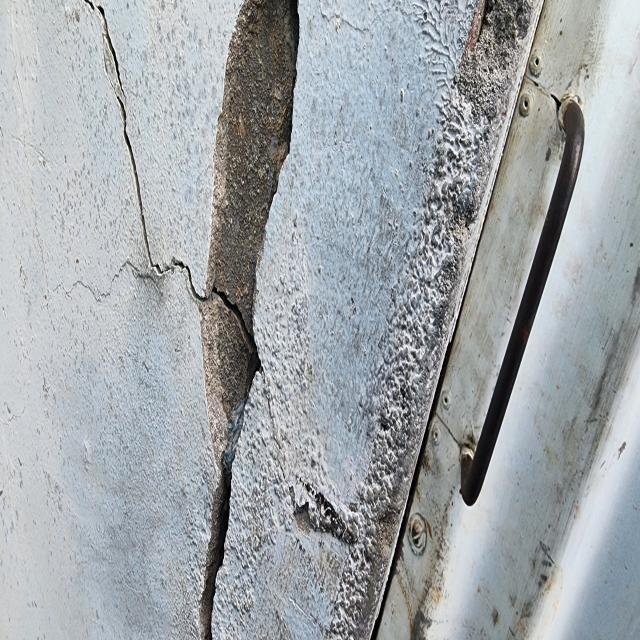SurfaceCrack: (348, 0, 627, 639), (92, 0, 328, 640)
